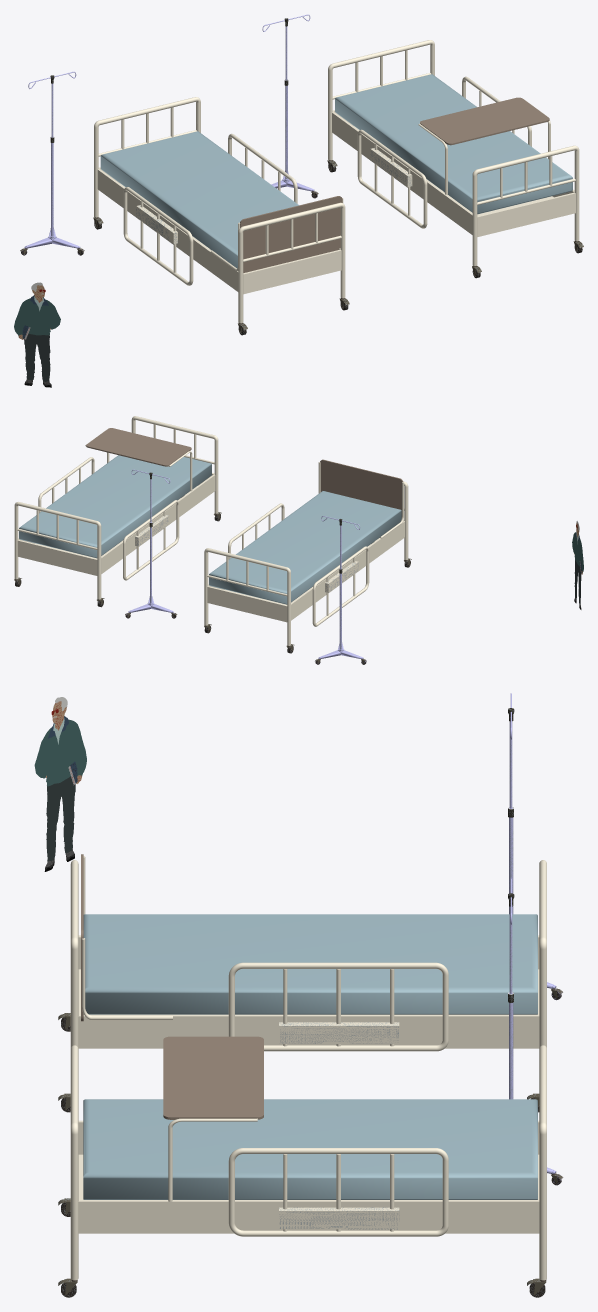
The picture shows the model from 3 angles, top to bottom: view 1: azimuth 30°, elevation 25°; view 2: azimuth 150°, elevation 25°; view 3: azimuth 270°, elevation 25°; orthographic projection. The views are drawn at different scales.
Parts seen in each view (by area): view 1: group_37, group_17, group_15 (×2), group_23 (×2), group_16 (×2), group_14 (×2), Steve (×2), group_18, group_30, group_26, group_28, group_0; view 2: group_17, group_37, group_15 (×2), group_23 (×2), group_14 (×2), group_16 (×2), group_18, group_30, group_31, group_26, group_0, group_28; view 3: group_17, group_37, group_15 (×2), group_23, group_31, group_26, Steve (×2), group_16 (×2), group_14 (×2), group_28, group_0, group_25.
Boxes of the visible parts, box(x1,y1,x2,y2) form: group_37: box(335, 74, 572, 214); group_17: box(100, 131, 298, 268); group_15 (×2): box(97, 110, 575, 294); group_23 (×2): box(240, 97, 549, 272); group_16 (×2): box(238, 145, 579, 323); group_14 (×2): box(94, 40, 434, 217); Steve (×2): box(14, 298, 60, 381); group_18: box(123, 187, 193, 285); group_30: box(357, 129, 427, 228); group_26: box(228, 133, 297, 203); group_28: box(370, 148, 412, 187); group_0: box(136, 205, 177, 244); group_17: box(209, 491, 401, 604); group_37: box(19, 455, 211, 558); group_15 (×2): box(17, 473, 404, 622); group_23 (×2): box(86, 428, 403, 517); group_14 (×2): box(14, 502, 290, 645); group_16 (×2): box(131, 416, 408, 559); group_18: box(312, 546, 369, 626); group_30: box(123, 500, 179, 580); group_31: box(38, 457, 94, 512); group_26: box(228, 503, 284, 559); group_0: box(325, 561, 358, 592); group_28: box(135, 515, 168, 546); group_17: box(83, 914, 537, 1014); group_37: box(83, 1099, 537, 1199); group_15 (×2): box(78, 935, 539, 1233); group_23: box(163, 1036, 263, 1119); group_31: box(228, 1148, 448, 1236); group_26: box(228, 962, 448, 1051); Steve (×2): box(34, 719, 86, 861); group_16 (×2): box(70, 860, 78, 1280); group_14 (×2): box(539, 860, 546, 1280); group_28: box(279, 1207, 399, 1229); group_0: box(279, 1022, 399, 1043); group_25: box(82, 938, 172, 1020).
Size of the model in its own units: 377 by 189 by 110.
